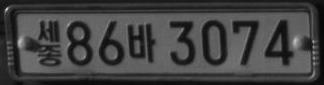0: (201, 18, 228, 67)
3: (168, 19, 195, 65)
4: (264, 19, 294, 66)
6: (97, 19, 125, 65)
7: (231, 19, 259, 66)
8: (66, 19, 93, 66)
바: (126, 22, 157, 62)
세종_V: (36, 19, 62, 66)
